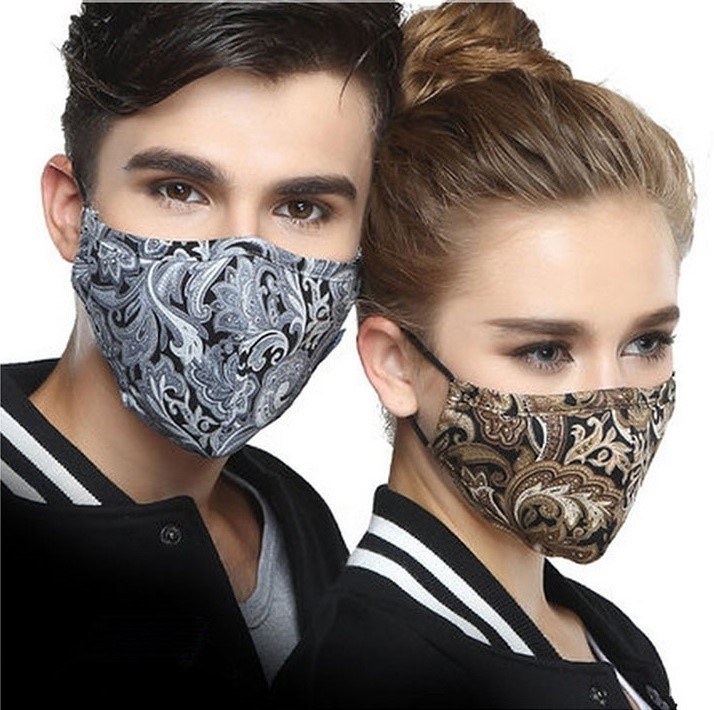face_with_mask: (55, 0, 369, 463), (375, 122, 698, 564)
